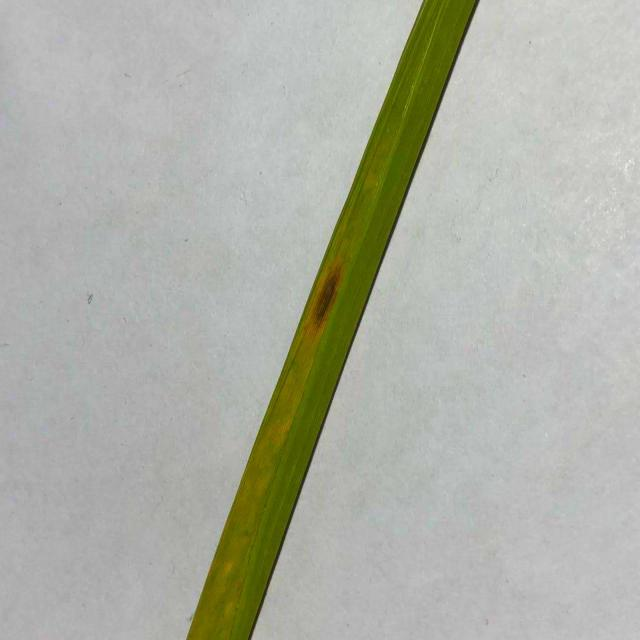Brown spot: (180, 1, 482, 640)
